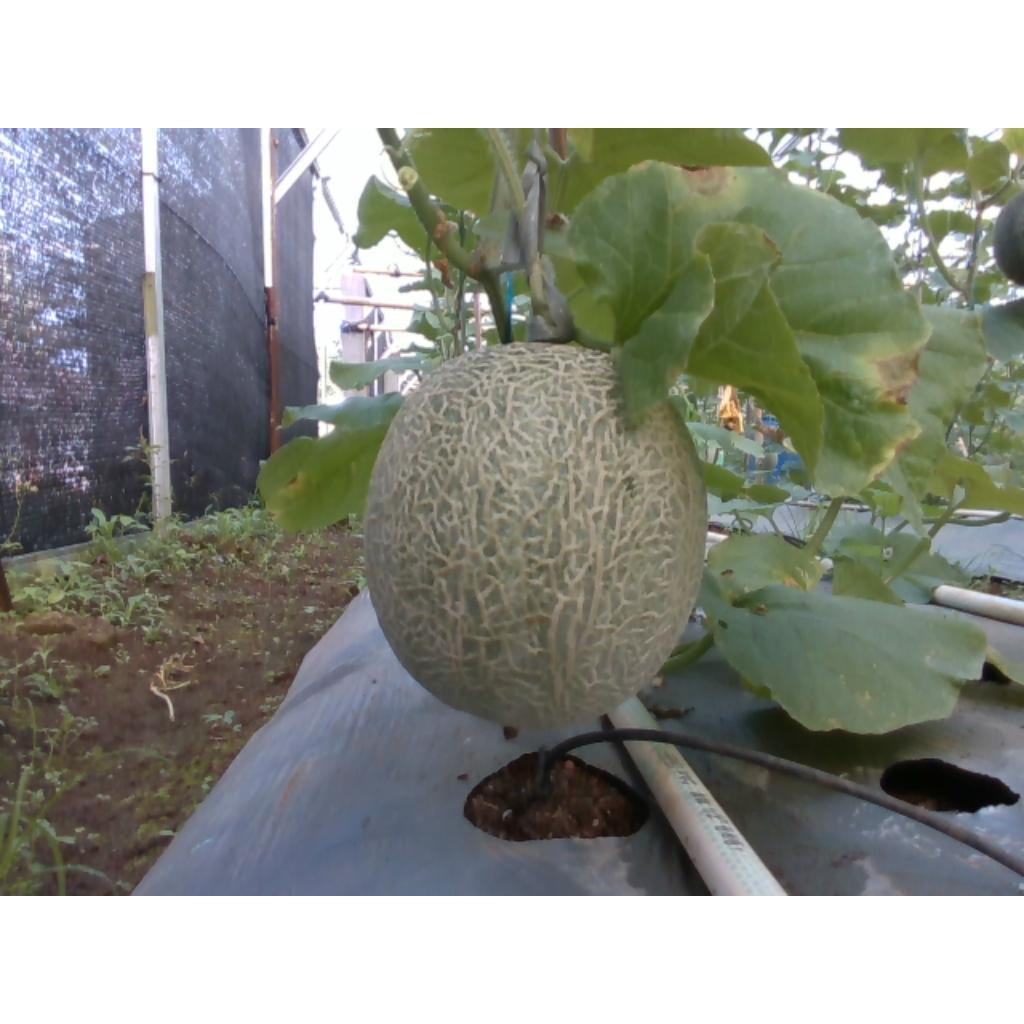melon: (366, 344, 707, 729)
